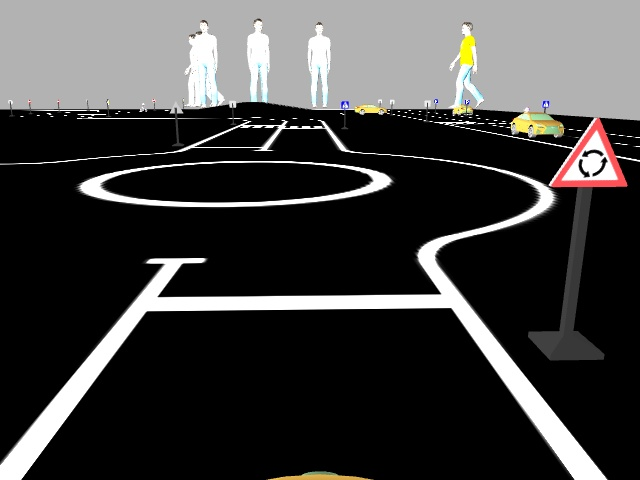Roundabout: (546, 116, 628, 188)
